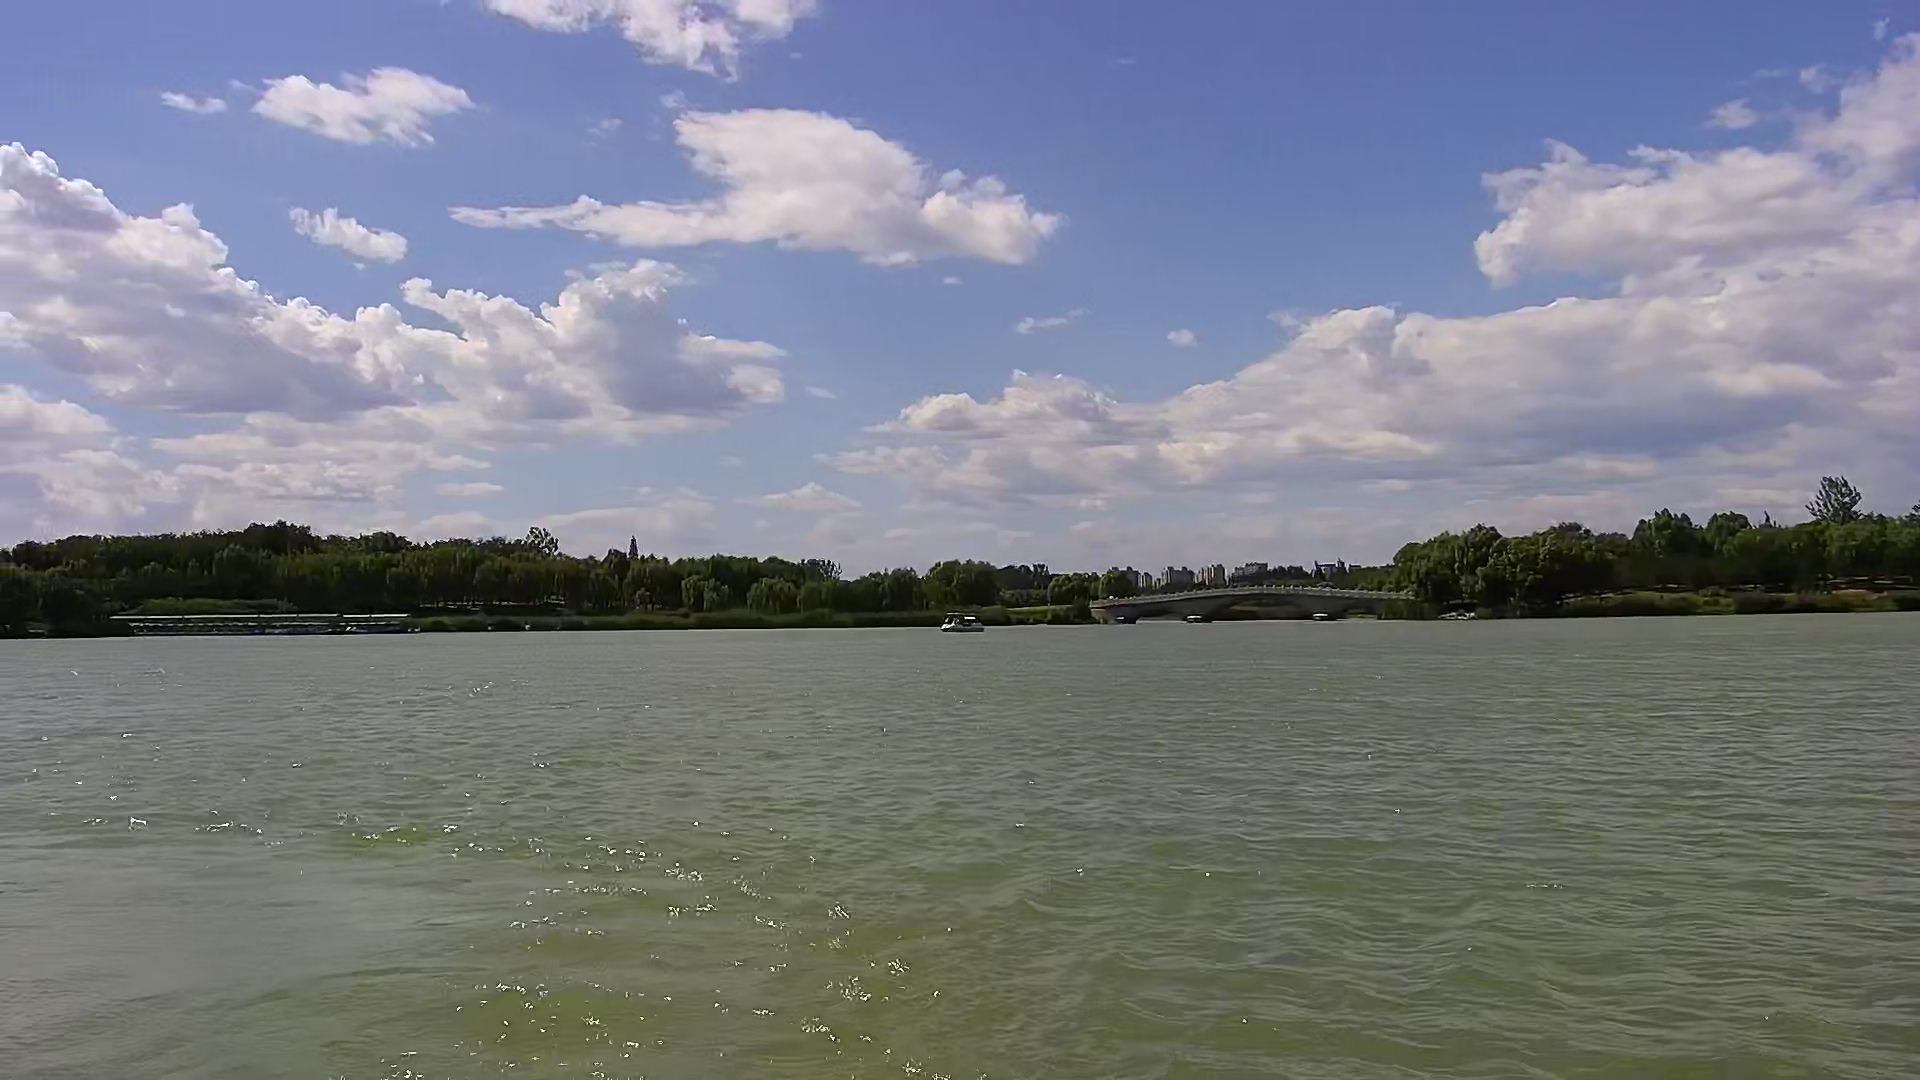boat: (943, 603, 986, 632)
bridge: (1093, 583, 1411, 618)
harbor: (113, 607, 411, 636)
